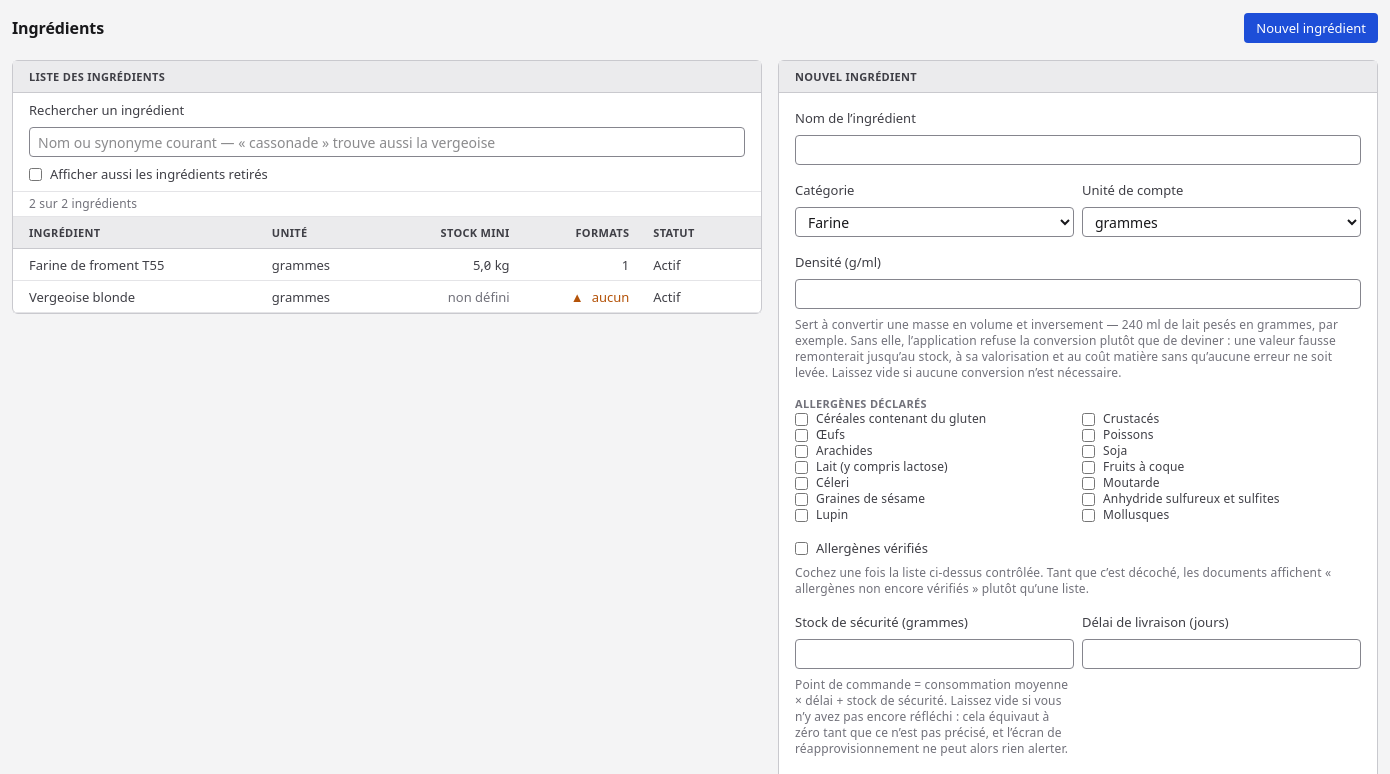
Ingrédients — recherche, ingrédients retirés, états vides › « Effacer » n’apparaît qu’avec une recherche active, et la vide
Expected: the text "Farine de froment T55" is shown, [13,249,260,281]
Expected: the button "Effacer" is not shown
Type "farine" into the search field named "Rechercher un ingrédient par nom ou synonyme" at {"x": 387, "y": 142}, box [29,127,745,157]
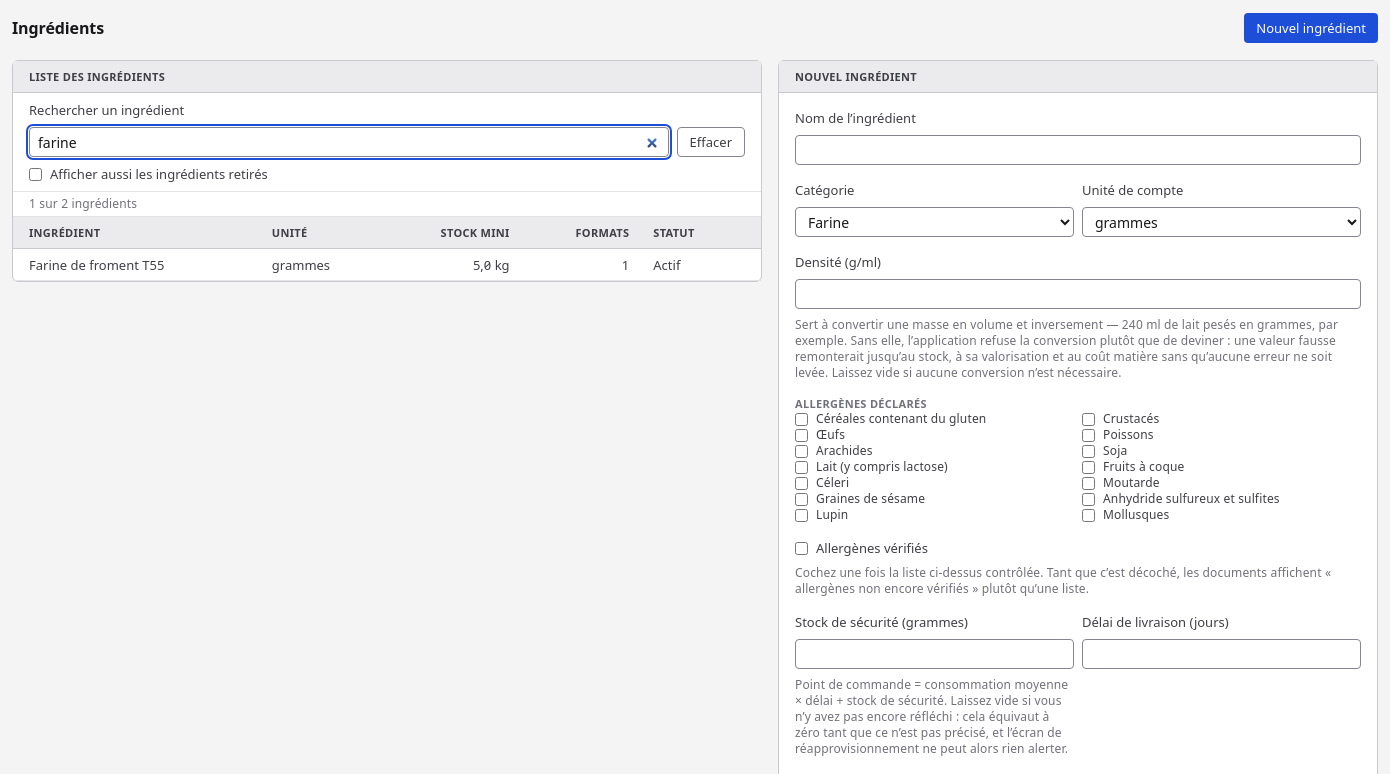
Click the button "Effacer" at {"x": 711, "y": 142}, box [677,127,745,157]
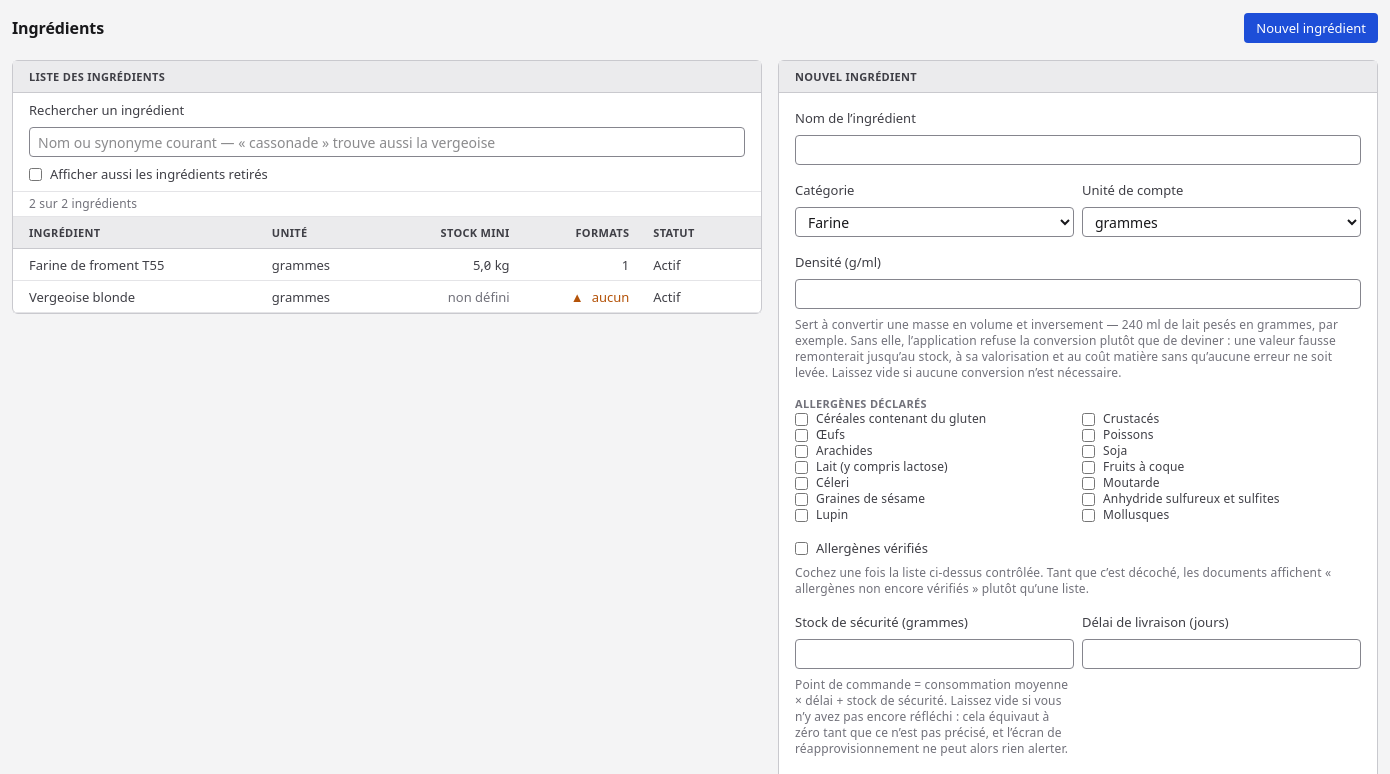
Now the search field named "Rechercher un ingrédient par nom ou synonyme" is empty, box [29,127,745,157]
Now the text "Vergeoise blonde" is shown, box [29,288,135,306]
